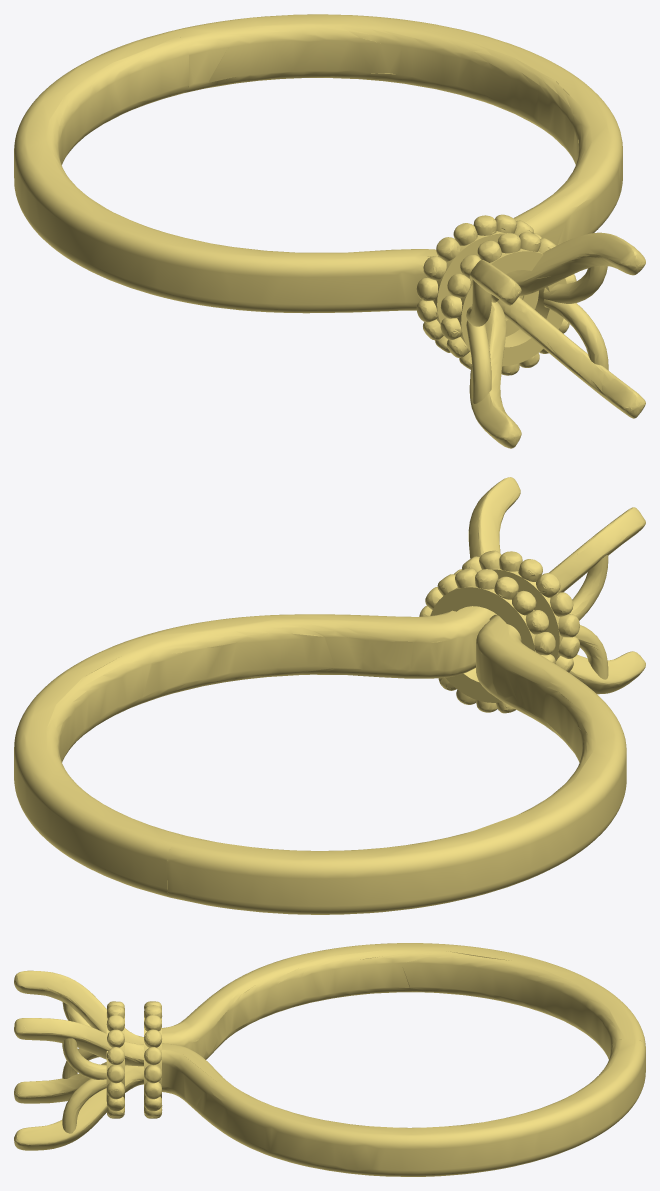
The picture shows the model from 3 angles, top to bottom: view 1: azimuth 30°, elevation 25°; view 2: azimuth 150°, elevation 25°; view 3: azimuth 270°, elevation 25°; orthographic projection. The views are drawn at different scales.
Visible parts, largest first — view 1: lr-0015; view 2: lr-0015; view 3: lr-0015.
Boxes of the visible parts, left/top/right/bottom form: lr-0015: left=14, top=14, right=645, bottom=448; lr-0015: left=14, top=477, right=645, bottom=914; lr-0015: left=14, top=943, right=645, bottom=1176.
Bounding box in the file's own units: 0.7475 × 0.2313 × 1.
